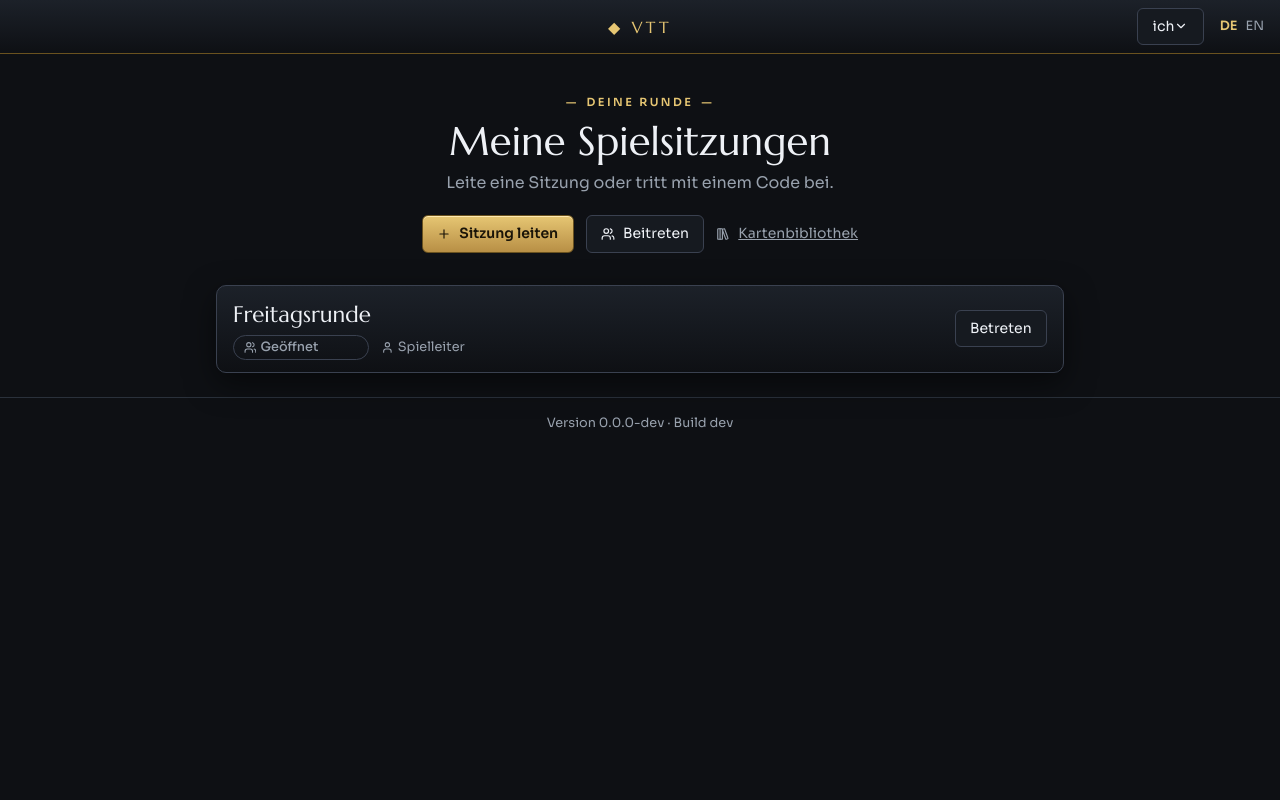
Bereiche der Raumansicht › Reiter Karte zeigt nur seine Panels
Expected: the heading "Freitagsrunde" is shown, [233,300,371,328]
Click the button "Betreten". click: [1001, 328]
box: [955,310,1047,347]
(page scrolled)
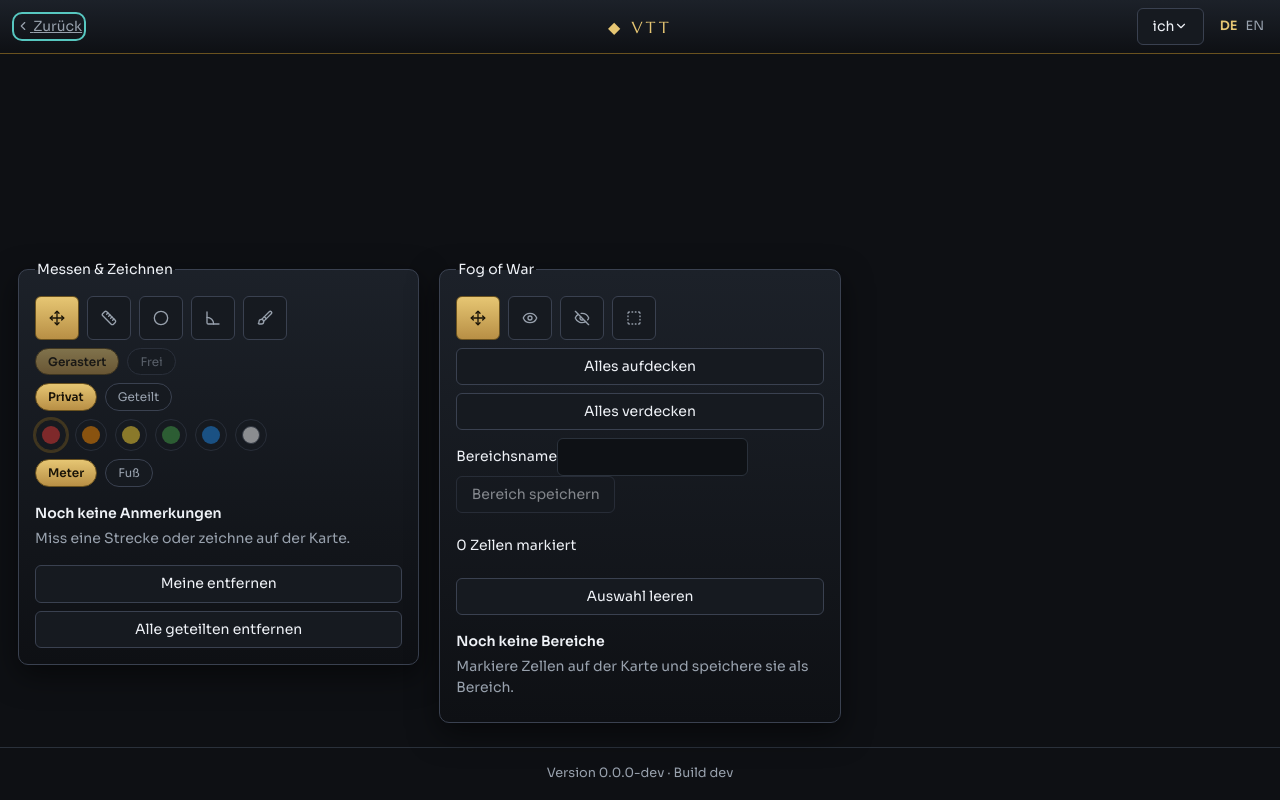
Expected: the heading "Karten" is not shown
Expected: the element "Messen & Zeichnen" is shown, [18,259,419,665]
Expected: the element "Fog of War" is shown, [439,259,841,724]
